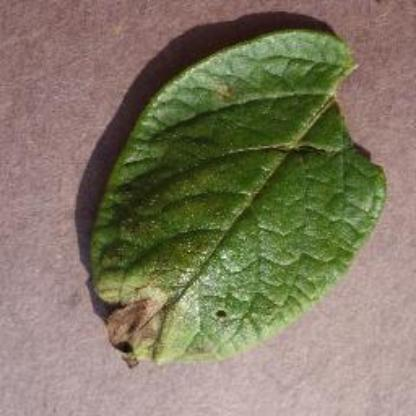Late-Blight: (70, 18, 392, 374)
